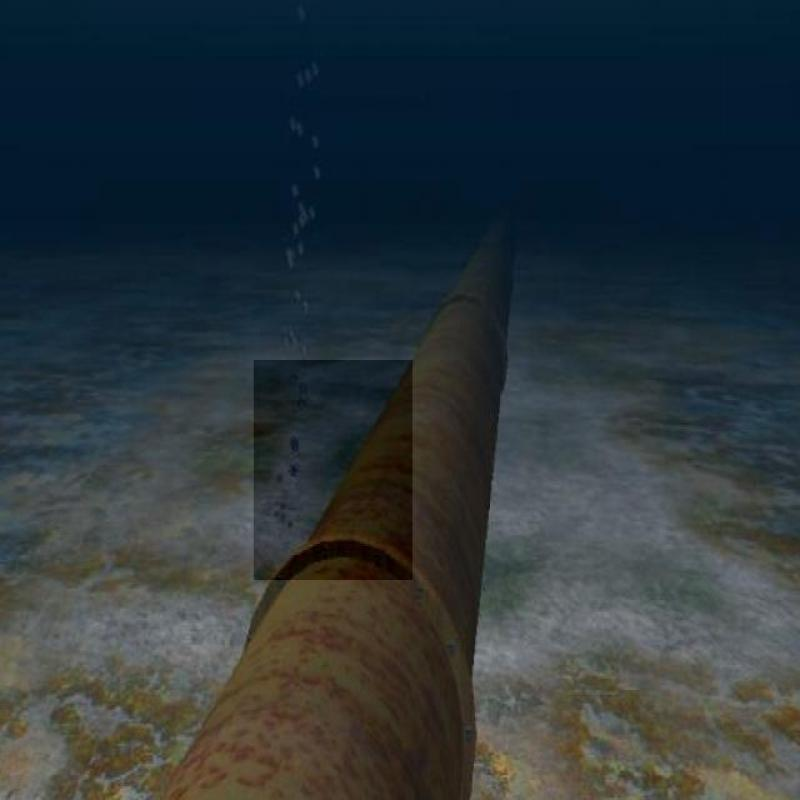Fracture: (248, 371, 387, 600)
